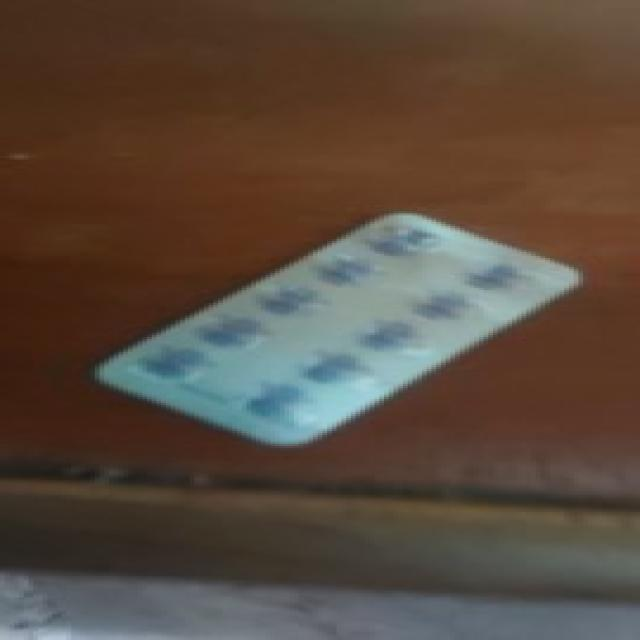Cacat: (88, 209, 578, 443)
